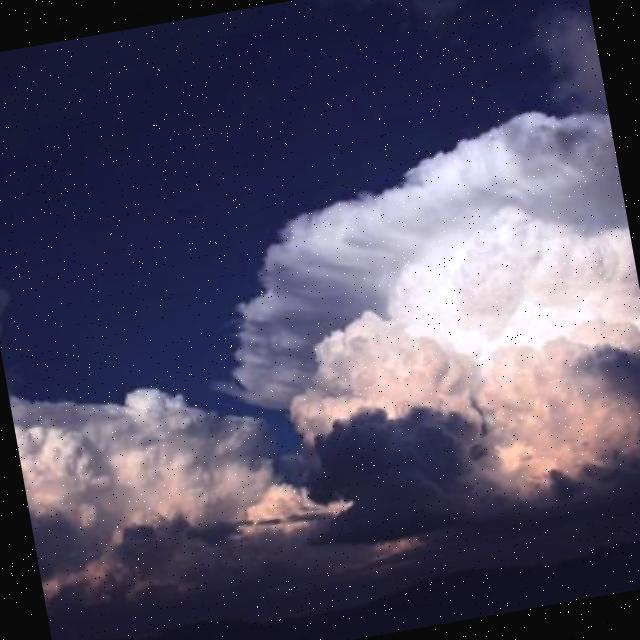Cb: (1, 20, 640, 611)
